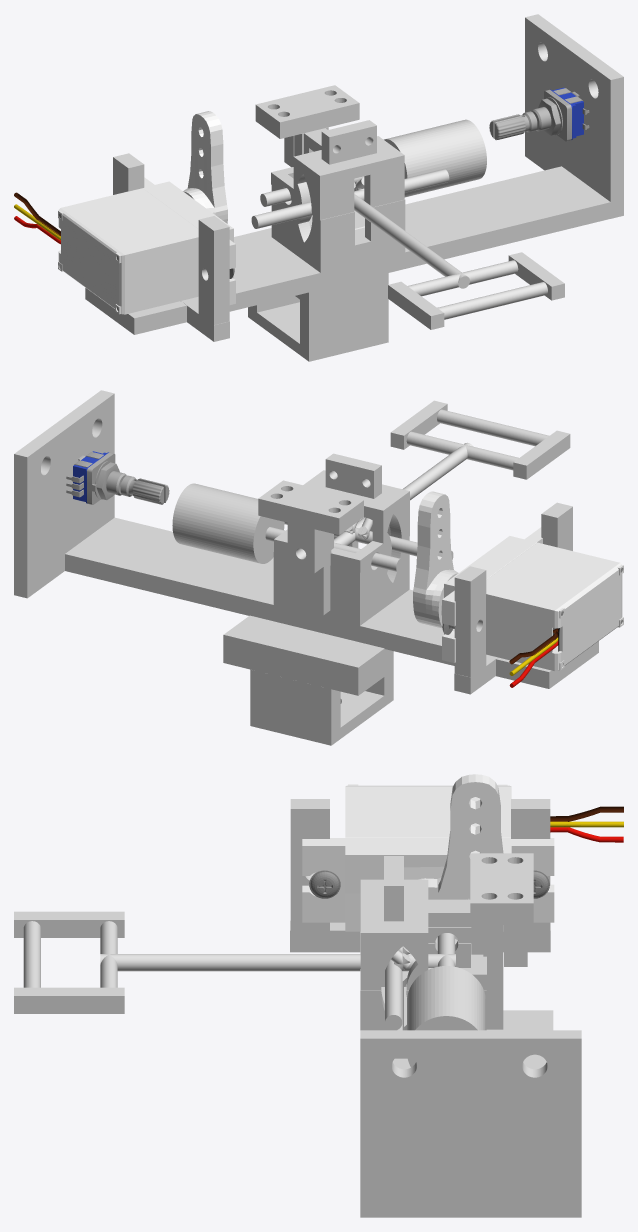
Rendered from trigger.glb.
The picture shows the model from 3 angles, top to bottom: view 1: azimuth 30°, elevation 25°; view 2: azimuth 150°, elevation 25°; view 3: azimuth 270°, elevation 25°; orthographic projection. The views are drawn at different scales.
Visible parts, largest first — view 1: leverbox.007, body.116, Cylinder.027, leverbox.001, Cube.002, body; view 2: leverbox.007, body.116, Cylinder.027, leverbox.001, Cube.002, body; view 3: leverbox.007, body.116, Cylinder.027, leverbox.001, Cube.002.
Part boxes in pixels (x1,y1,x2,y2): leverbox.007: [85, 14, 623, 361]; body.116: [14, 111, 235, 314]; Cylinder.027: [251, 119, 564, 329]; leverbox.001: [271, 120, 404, 219]; Cube.002: [255, 85, 359, 167]; body: [489, 87, 589, 141]; leverbox.007: [14, 390, 598, 745]; body.116: [413, 491, 623, 687]; Cylinder.027: [172, 400, 570, 572]; leverbox.001: [274, 453, 409, 572]; Cube.002: [258, 480, 363, 573]; body: [66, 451, 169, 504]; leverbox.007: [290, 799, 581, 1217]; body.116: [302, 774, 623, 939]; Cylinder.027: [14, 911, 485, 1067]; leverbox.001: [360, 856, 486, 990]; Cube.002: [470, 853, 533, 966].
Size of the model in its own units: 9.6 by 4.36 by 7.72.
Materials: 19 (1 with a texture image).
